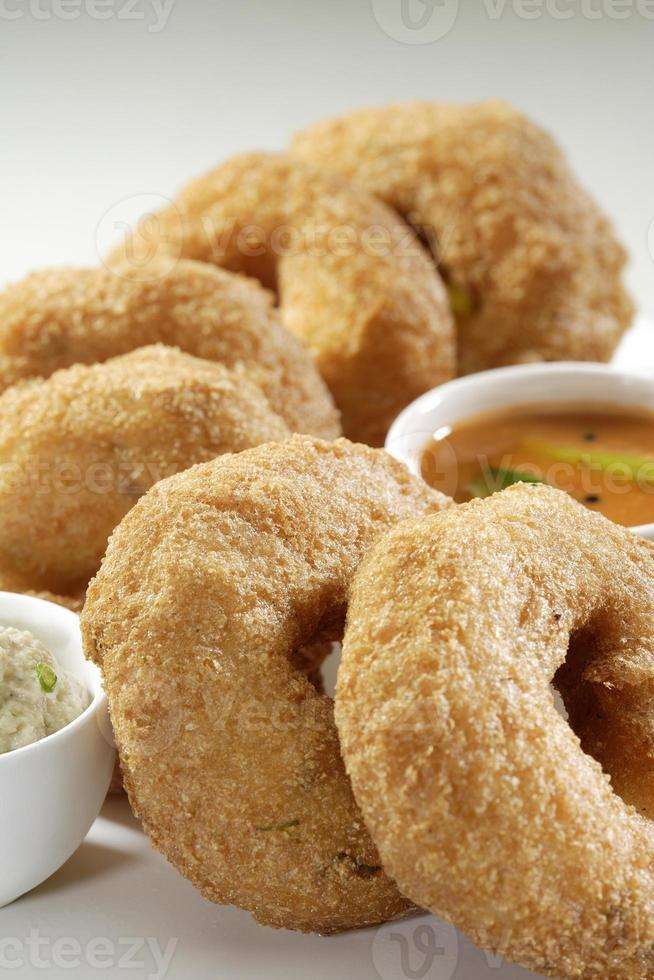mvada: (64, 258, 386, 746)
